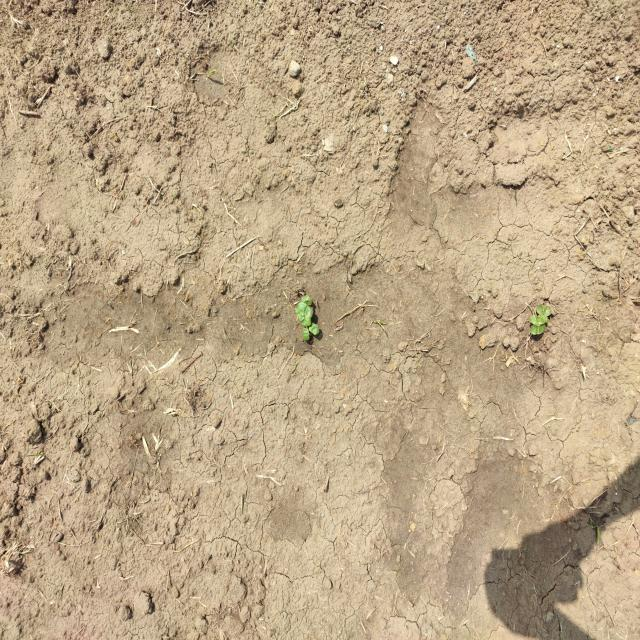seedling: (299, 304, 313, 318), (530, 314, 546, 325), (536, 305, 551, 316), (530, 324, 545, 335), (295, 301, 306, 314), (309, 322, 319, 335), (302, 325, 310, 340), (302, 295, 312, 306), (301, 316, 311, 326)
